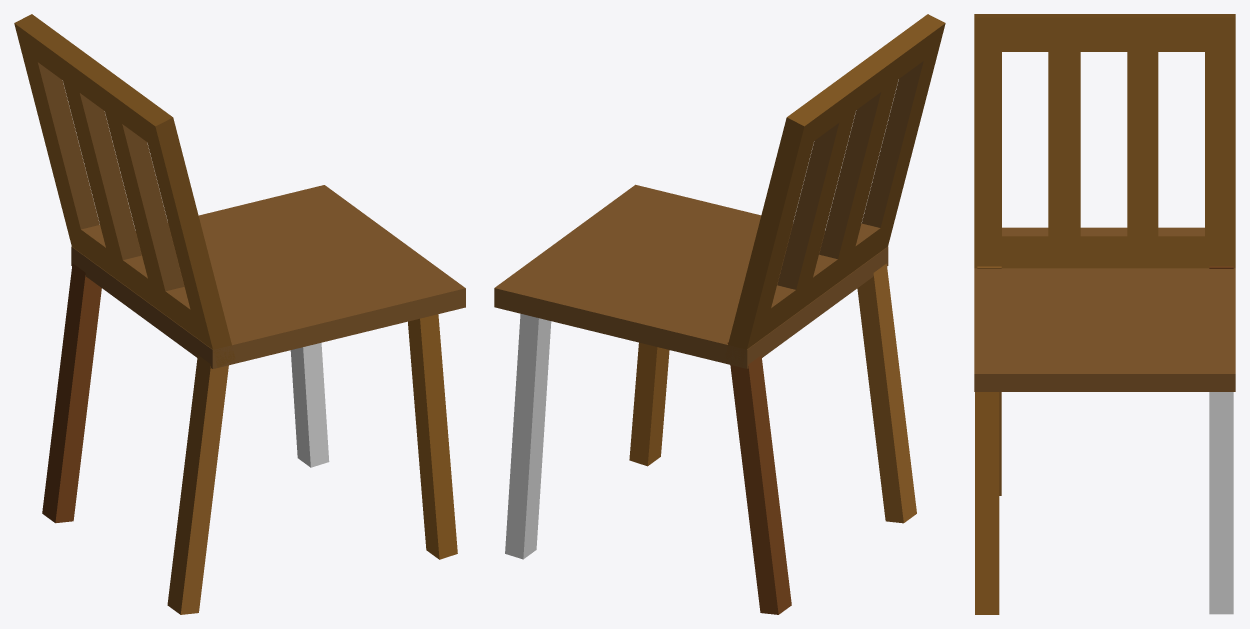
File: chair 1.2.fbx
3 views of the same model, side by side, from view 1: azimuth 30°, elevation 25°; view 2: azimuth 150°, elevation 25°; view 3: azimuth 270°, elevation 25° (orthographic). The views are drawn at different scales.
Parts seen in each view (by area): view 1: Cube; view 2: Cube; view 3: Cube.
Boxes of the visible parts, x1,y1,x2,y2 form: Cube: [14, 14, 465, 614]; Cube: [494, 14, 945, 614]; Cube: [974, 14, 1235, 614].
Bounding box in the file's own units: 103 × 161 × 81.33.
